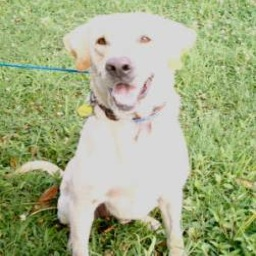dog: (47, 13, 199, 256)
